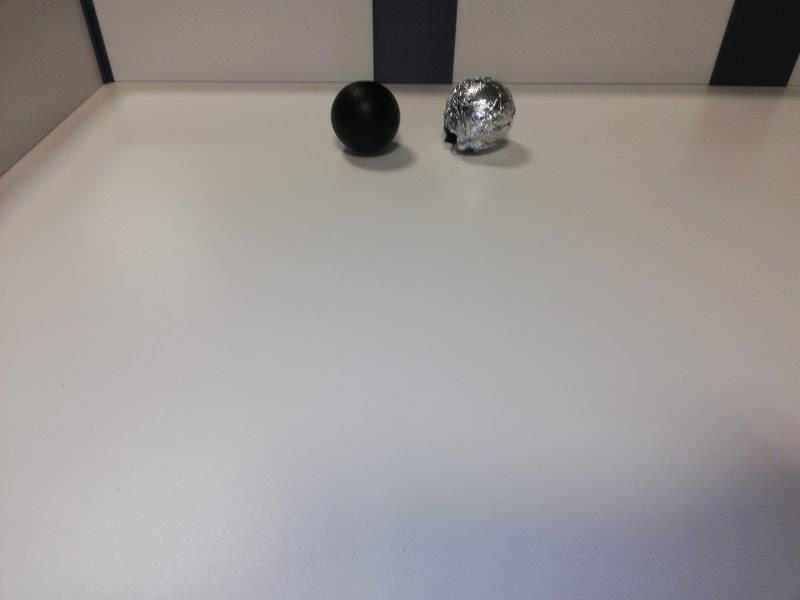bianca: (443, 76, 513, 153)
nera: (330, 79, 407, 156)
